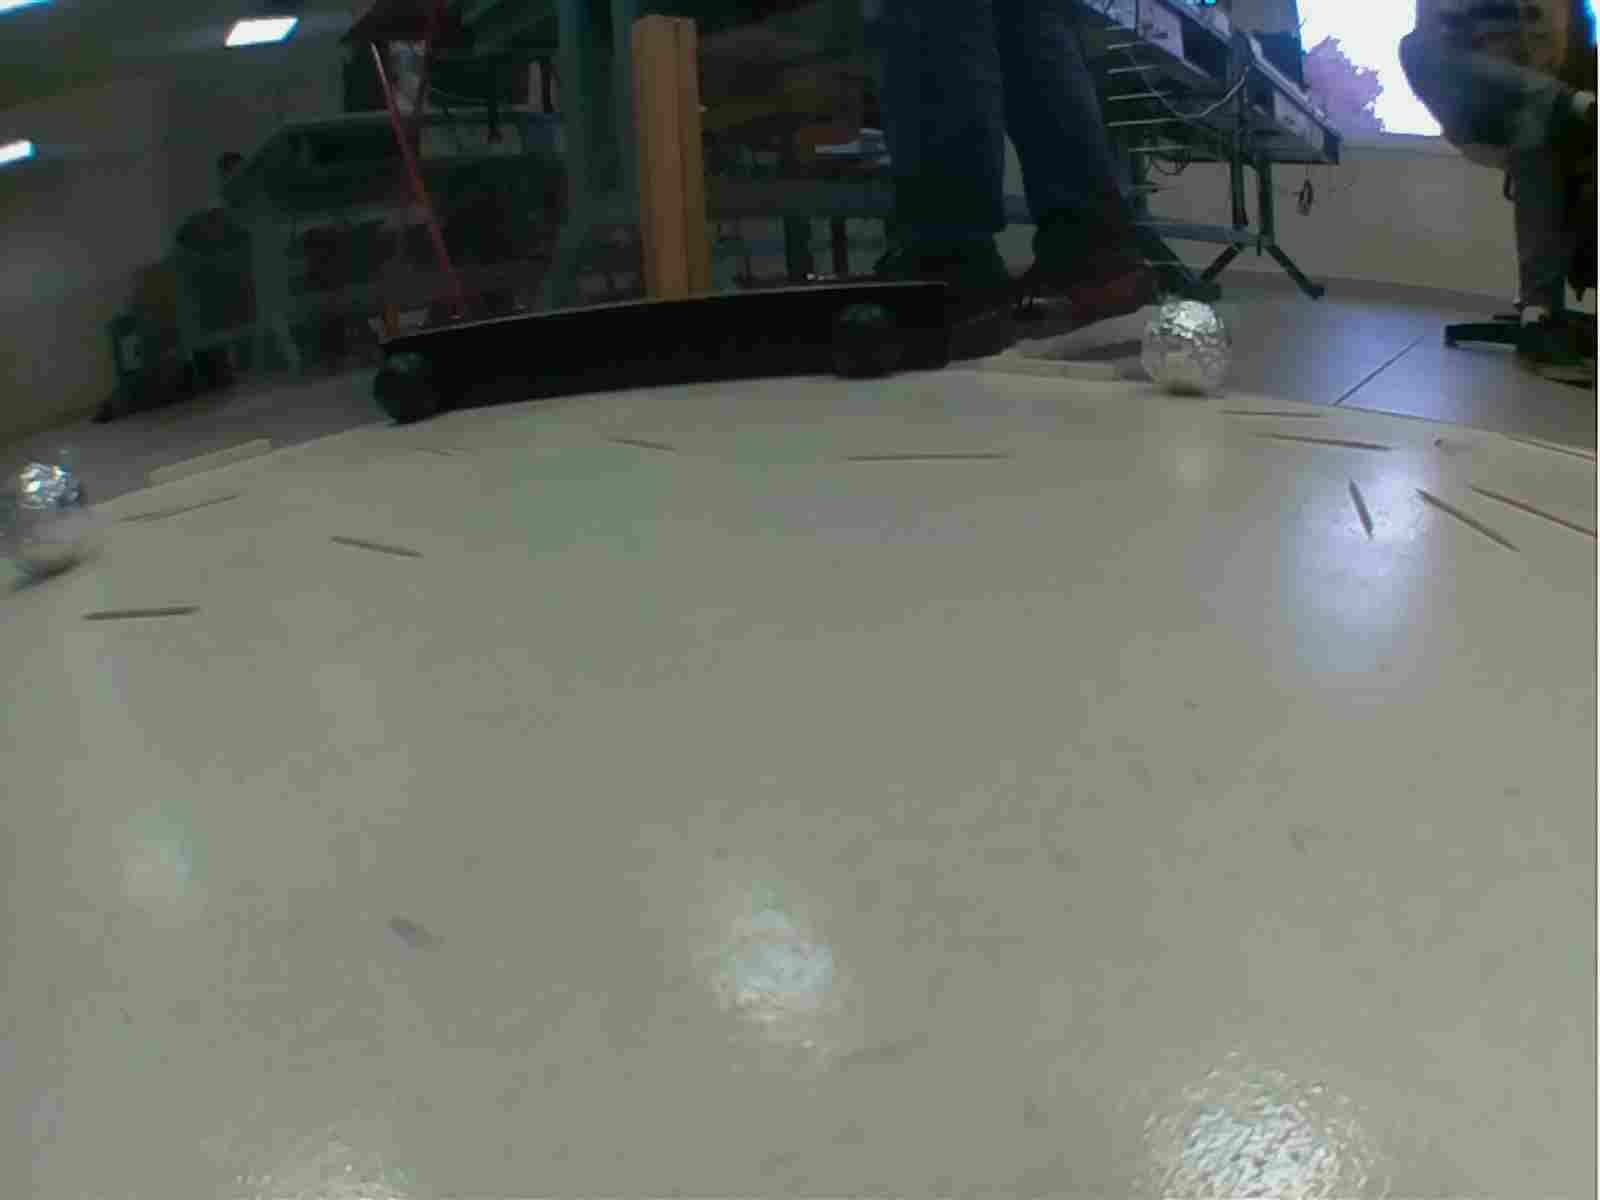bianca: (4, 463, 87, 585), (1138, 295, 1232, 397)
